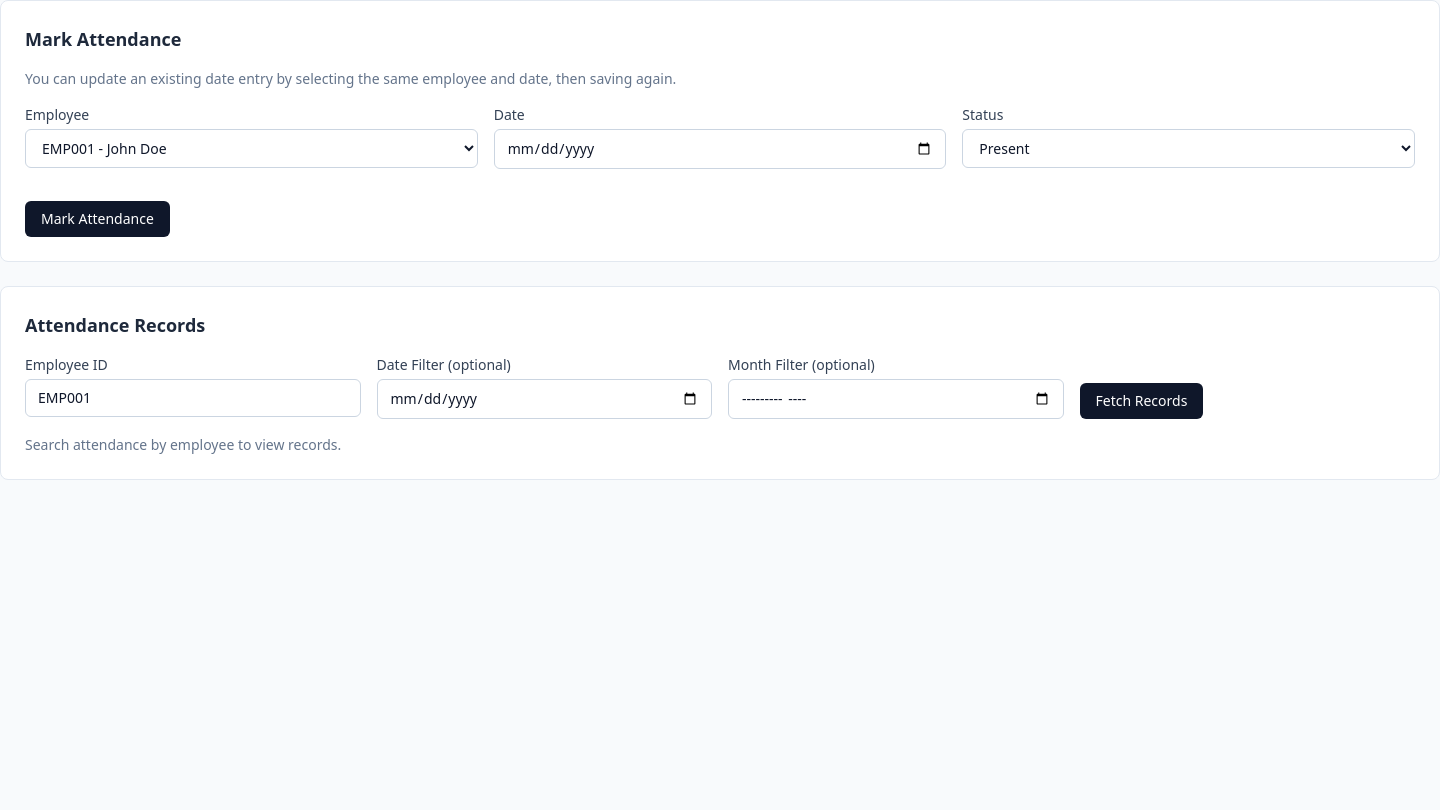
Test: AttendancePage › fetches and renders attendance summary
Expected: the heading "Attendance Records" is shown, [25,313,205,337]
Click the button "Fetch Records": x=1141, y=401 [1080,383,1203,419]
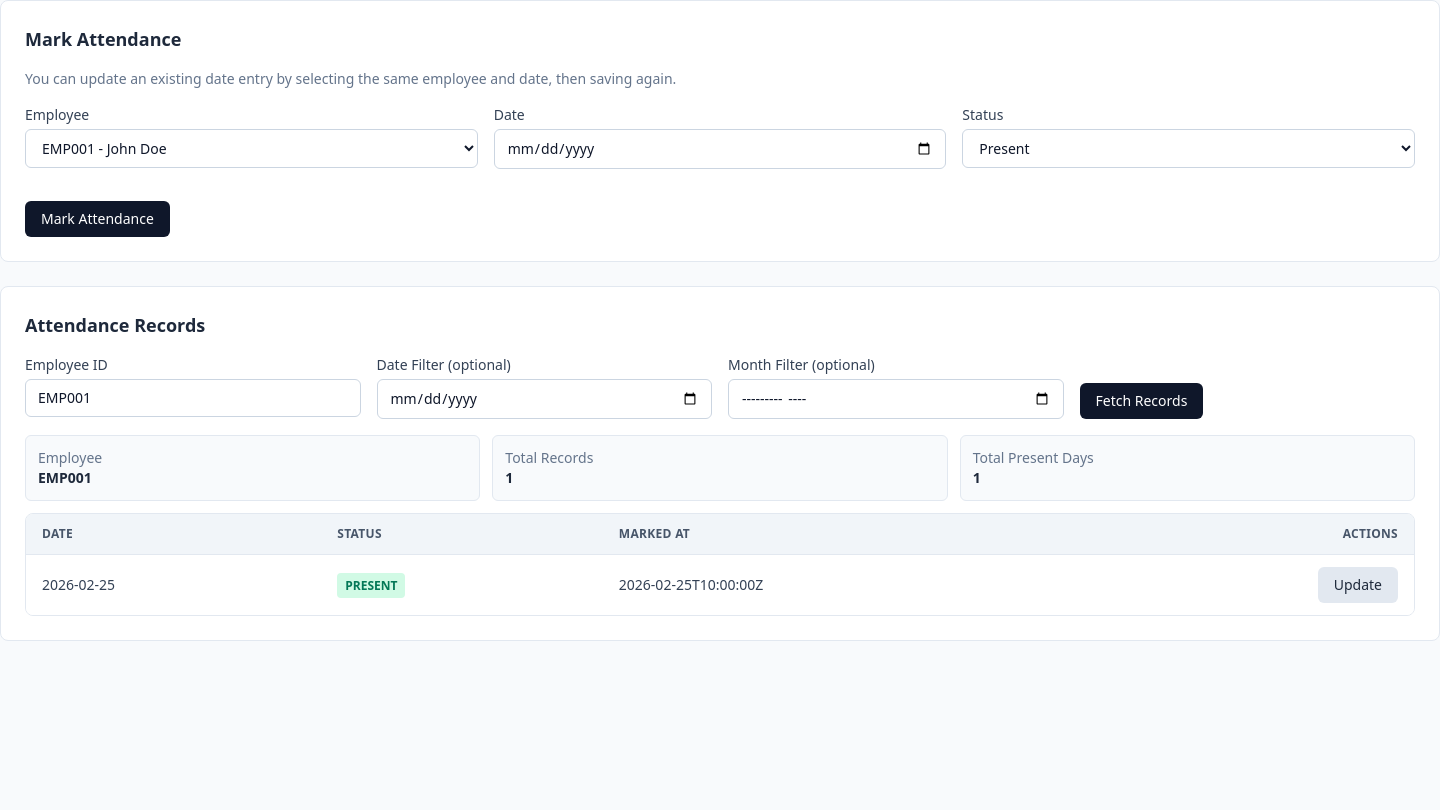
Now the text "Total Records" is shown, box [505,448,593,467]
Now the text "2026-02-25" is shown, box [26,554,321,615]
